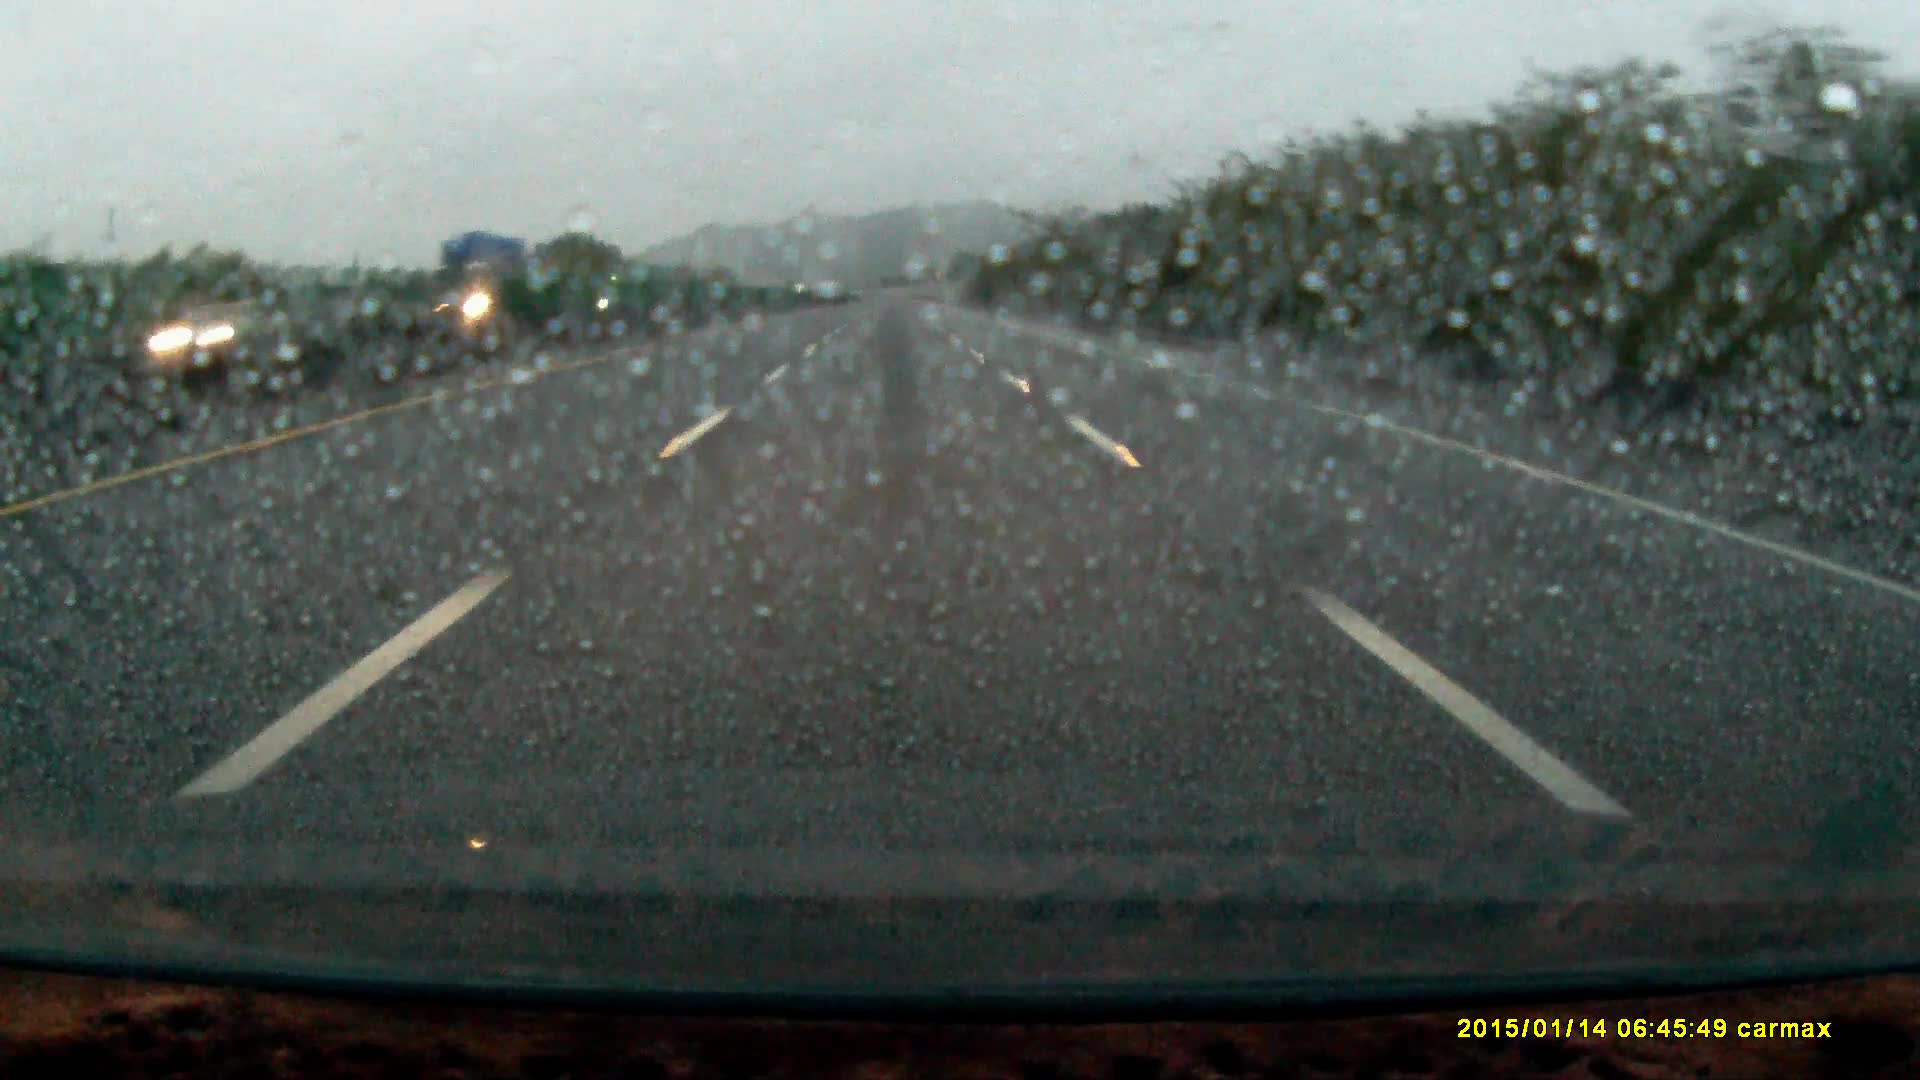vehicle: (429, 239, 542, 336), (156, 306, 291, 353)
